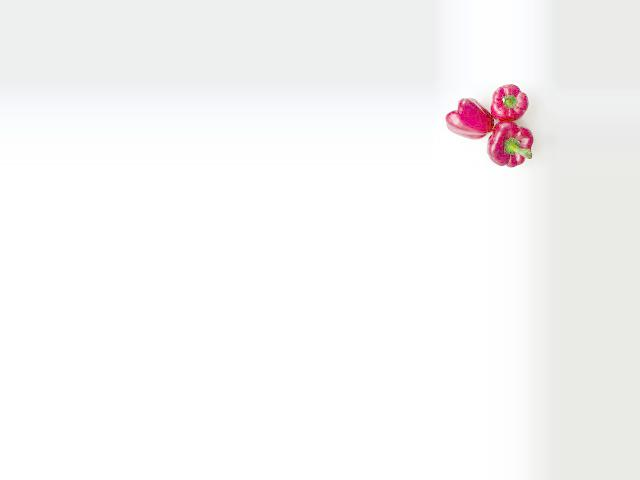bell_pepper: (439, 89, 495, 143)
